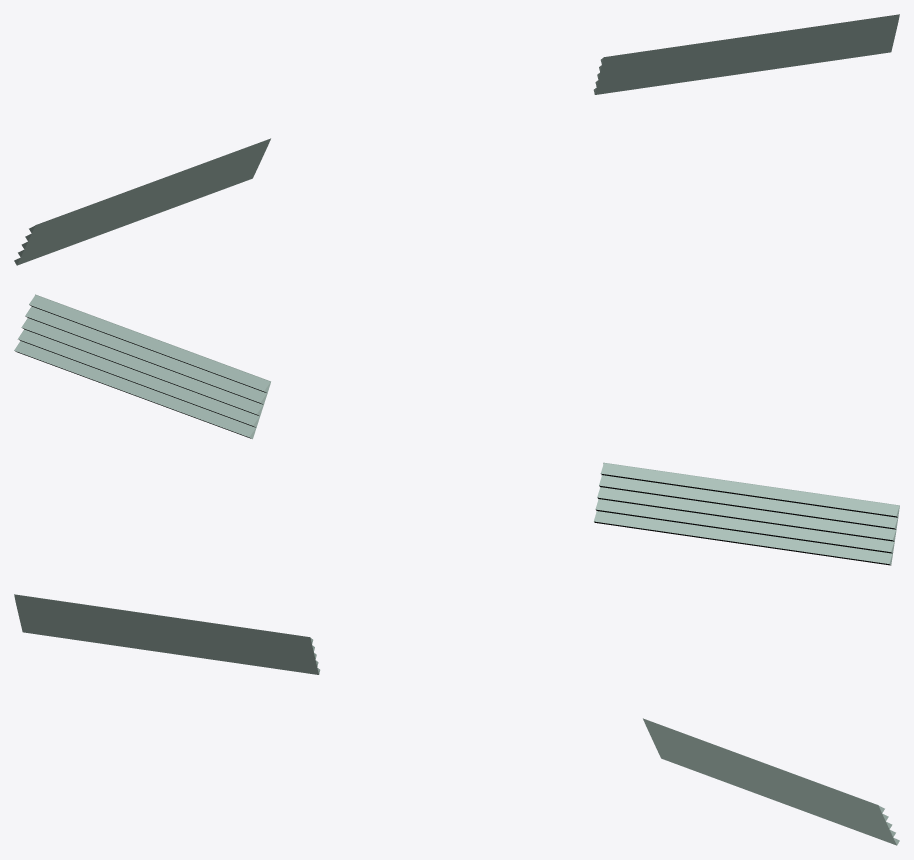
The model's file is TankBWind.fbx.
3 views of the same model, one above another, from view 1: azimuth 30°, elevation 25°; view 2: azimuth 150°, elevation 25°; view 3: azimuth 330°, elevation 25° (orthographic).
Parts seen in each view (by area): view 1: TankMainBackWind; view 2: TankMainBackWind; view 3: TankMainBackWind.
Boxes of the visible parts, x1,y1,x2,y2 form: TankMainBackWind: (14, 14, 899, 265); TankMainBackWind: (14, 294, 899, 565); TankMainBackWind: (14, 594, 899, 845).
Bounding box in the file's own units: 416 × 22.32 × 38.01.
